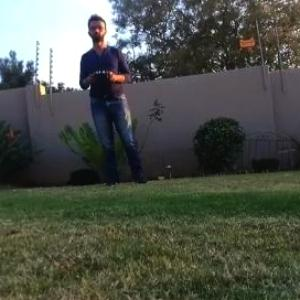follow: (75, 10, 154, 191)
